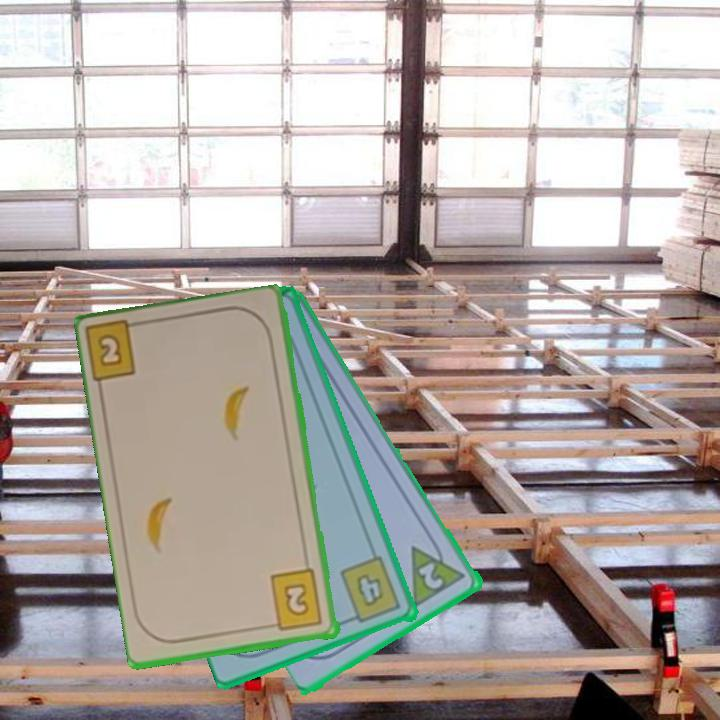2b: (85, 318, 149, 387), (265, 566, 326, 634)
2p: (407, 532, 470, 610)
4b: (337, 553, 405, 626)
